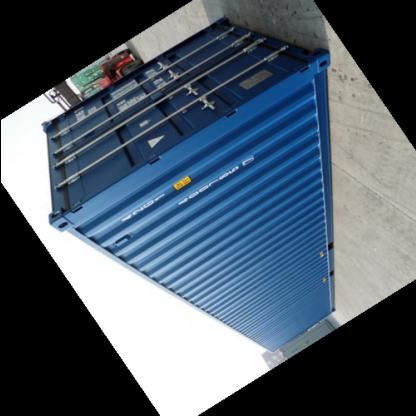Damage: (54, 148, 70, 216)
